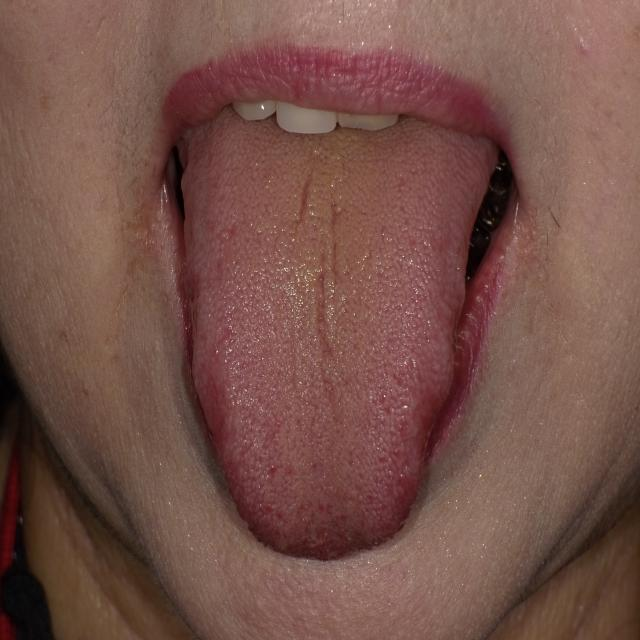hongdianshe: (266, 462, 278, 476)
hongshe: (179, 98, 497, 560)
huangtaishe: (179, 98, 497, 560)
liewenshe: (294, 168, 316, 225)
